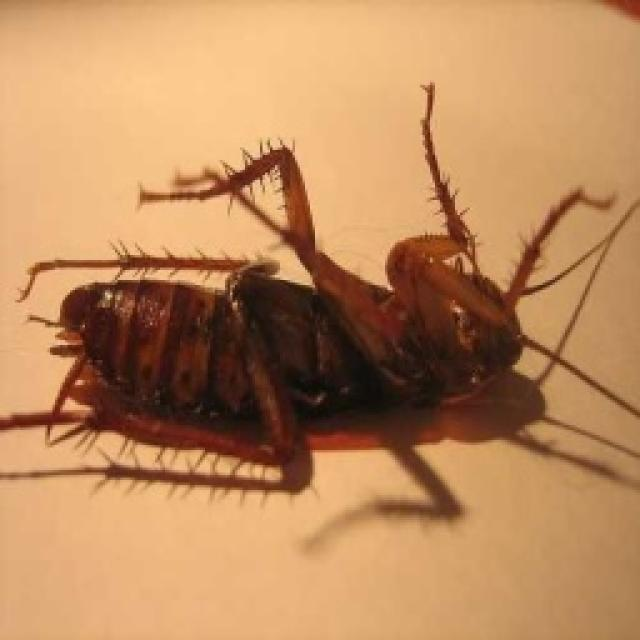cockroach: (3, 79, 637, 524)
